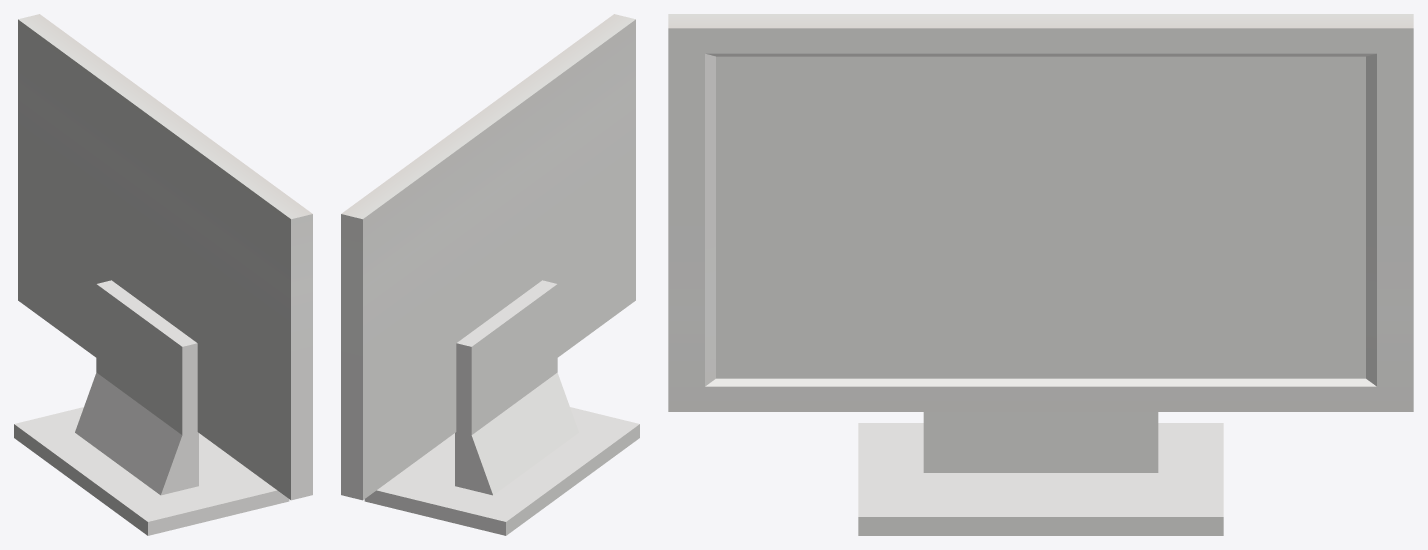
Rendered from Living_Room_TV.fbx.
The picture shows the model from 3 angles, left to right: view 1: azimuth 30°, elevation 25°; view 2: azimuth 150°, elevation 25°; view 3: azimuth 270°, elevation 25°; orthographic projection. The views are drawn at different scales.
Parts seen in each view (by area): view 1: Living_Room_TV; view 2: Living_Room_TV; view 3: Living_Room_TV.
Boxes of the visible parts, box(x1,y1,x2,y2) form: Living_Room_TV: box(14, 14, 312, 535); Living_Room_TV: box(341, 14, 639, 535); Living_Room_TV: box(668, 14, 1413, 535).
Size of the model in its own units: 41.06 by 97.15 by 138.
